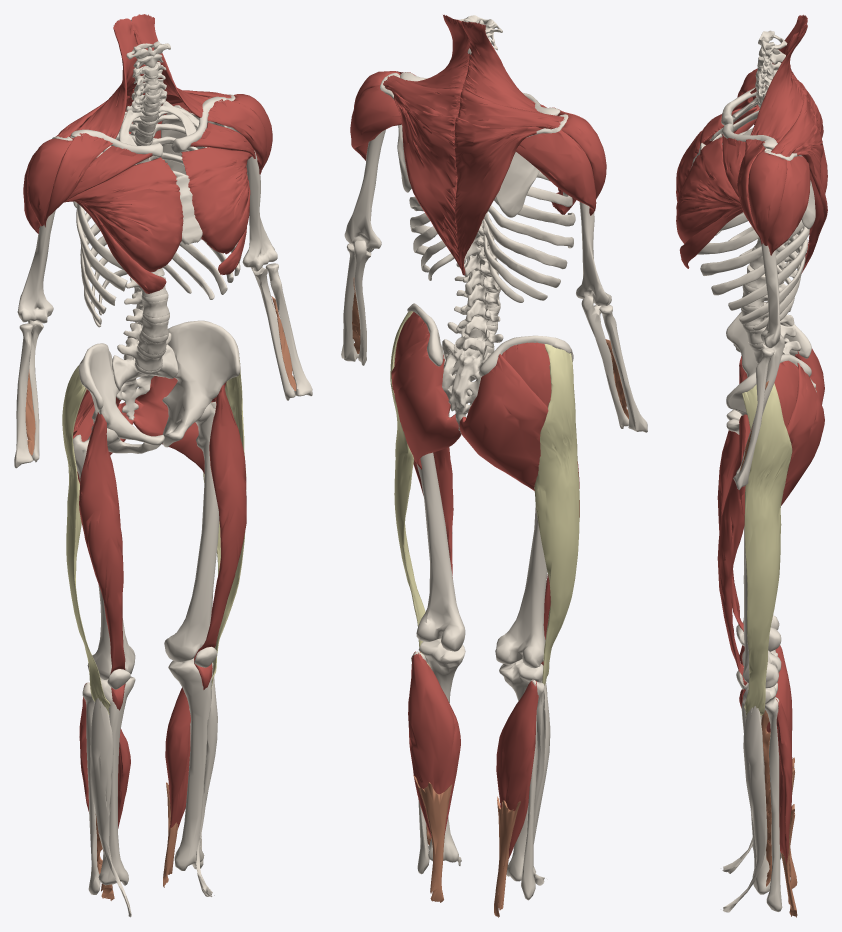
File: ortopedi.glb
3 views of the same model, side by side, from view 1: azimuth 30°, elevation 25°; view 2: azimuth 150°, elevation 25°; view 3: azimuth 270°, elevation 25° (orthographic). The views are drawn at different scales.
Visible parts, largest first — view 1: Sternocostal part of right pectoralis major, Right rectus femoris, Left rectus femoris, Left hip bone, Sternocostal part of left pectoralis major, Left femur, Left tibia, Right iliotibial tract, Right hip bone, Right tibialis anterior, Left soleus, Left gluteus maximus (+31 smaller); view 2: Right iliotibial tract, Right gluteus maximus, Ascending part of left trapezius, Ascending part of right trapezius, Left soleus, Left gluteus maximus, Left femur, Right soleus, Right femur, Spinal part of right deltoid, Descending part of right trapezius, Left iliotibial tract (+31 smaller); view 3: Left iliotibial tract, Sternocostal part of left pectoralis major, Left rectus femoris, Left gluteus maximus, Left tibialis anterior, Descending part of left trapezius, Acromial part of left deltoid, Spinal part of left deltoid, Left fibula, Left soleus, Ascending part of left trapezius, Right rectus femoris (+31 smaller).
Part boxes in pixels (bbox=[...]): Sternocostal part of right pectoralis major: bbox=[64, 157, 183, 272]; Right rectus femoris: bbox=[79, 412, 125, 710]; Left rectus femoris: bbox=[194, 384, 246, 689]; Left hip bone: bbox=[162, 320, 240, 447]; Sternocostal part of left pectoralis major: bbox=[181, 147, 252, 254]; Left femur: bbox=[164, 401, 219, 662]; Left tibia: bbox=[168, 658, 213, 870]; Right iliotibial tract: bbox=[62, 365, 110, 714]; Right hip bone: bbox=[78, 343, 164, 453]; Right tibialis anterior: bbox=[90, 698, 131, 917]; Left soleus: bbox=[165, 687, 190, 829]; Left gluteus maximus: bbox=[133, 376, 211, 473]; Right iliotibial tract: bbox=[534, 344, 579, 685]; Right gluteus maximus: bbox=[459, 354, 548, 490]; Ascending part of left trapezius: bbox=[392, 91, 465, 275]; Ascending part of right trapezius: bbox=[454, 116, 543, 275]; Left soleus: bbox=[408, 651, 460, 837]; Left gluteus maximus: bbox=[391, 336, 461, 469]; Left femur: bbox=[416, 452, 465, 651]; Right soleus: bbox=[496, 680, 538, 858]; Right femur: bbox=[495, 506, 547, 668]; Spinal part of right deltoid: bbox=[515, 130, 596, 215]; Descending part of right trapezius: bbox=[461, 21, 543, 113]; Left iliotibial tract: bbox=[390, 311, 428, 664]; Left iliotibial tract: bbox=[742, 383, 792, 717]; Sternocostal part of left pectoralis major: bbox=[676, 137, 741, 243]; Left rectus femoris: bbox=[717, 414, 750, 708]; Left gluteus maximus: bbox=[781, 363, 824, 505]; Left tibialis anterior: bbox=[723, 706, 767, 912]; Descending part of left trapezius: bbox=[750, 24, 807, 143]; Acromial part of left deltoid: bbox=[748, 151, 787, 245]; Spinal part of left deltoid: bbox=[767, 156, 810, 255]; Left fibula: bbox=[765, 697, 782, 911]; Left soleus: bbox=[766, 697, 792, 864]; Ascending part of left trapezius: bbox=[792, 116, 827, 271]; Right rectus femoris: bbox=[717, 356, 747, 664].
Size of the model in its own units: 0.7149 by 2 by 0.3122.
